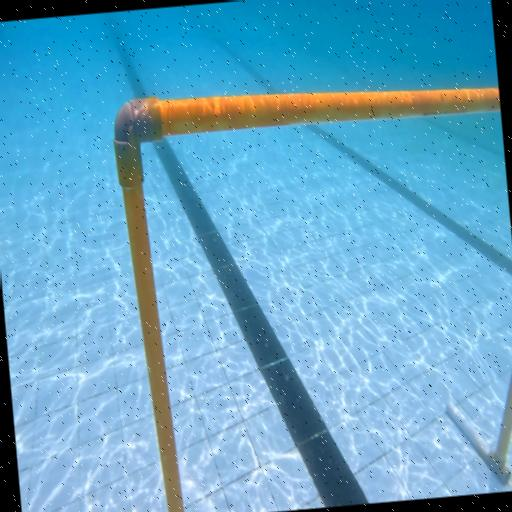gate: (109, 65, 512, 512)
